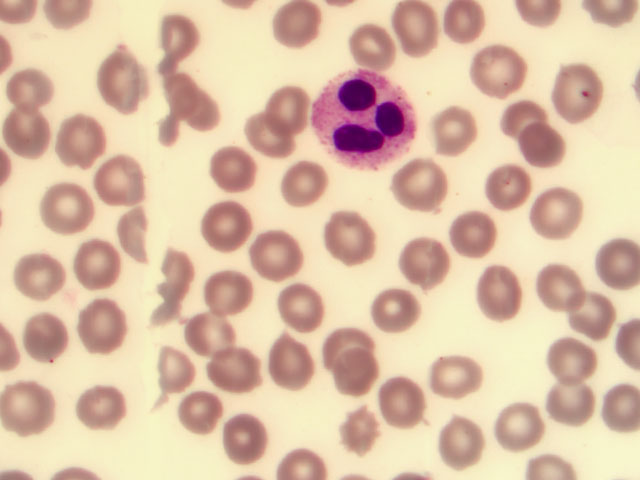RBC: (96, 50, 154, 105), (5, 56, 63, 111), (48, 112, 106, 167), (86, 149, 144, 204), (41, 180, 99, 235), (104, 205, 162, 260), (68, 239, 126, 294), (17, 246, 75, 301), (14, 312, 72, 367), (70, 296, 128, 351), (78, 378, 136, 433), (1, 384, 59, 439), (171, 377, 229, 432), (147, 333, 205, 388), (185, 316, 243, 371), (195, 277, 253, 332), (155, 249, 213, 304), (200, 207, 258, 262), (212, 137, 270, 192), (245, 113, 303, 168), (259, 80, 317, 135), (164, 84, 222, 139), (153, 9, 211, 64), (268, 3, 326, 58), (344, 21, 402, 76), (376, 3, 434, 58), (466, 36, 524, 91), (552, 64, 610, 119), (495, 83, 553, 138), (512, 114, 570, 169), (492, 153, 550, 208), (394, 163, 452, 218), (427, 104, 485, 159), (326, 208, 384, 263), (291, 161, 349, 216), (254, 227, 312, 282), (271, 276, 329, 331), (262, 323, 320, 378), (313, 315, 371, 370), (319, 343, 377, 398), (366, 300, 424, 355), (395, 244, 453, 299), (455, 208, 513, 263), (473, 273, 531, 328), (518, 261, 576, 316), (521, 190, 579, 245), (582, 232, 640, 287), (559, 285, 617, 340), (538, 325, 596, 380), (538, 363, 596, 418), (491, 395, 549, 450), (435, 412, 493, 467), (433, 351, 491, 406), (371, 380, 429, 435), (349, 398, 407, 453), (219, 412, 277, 467), (1, 101, 58, 156), (440, 1, 498, 55)
WBC: (309, 69, 415, 164)
